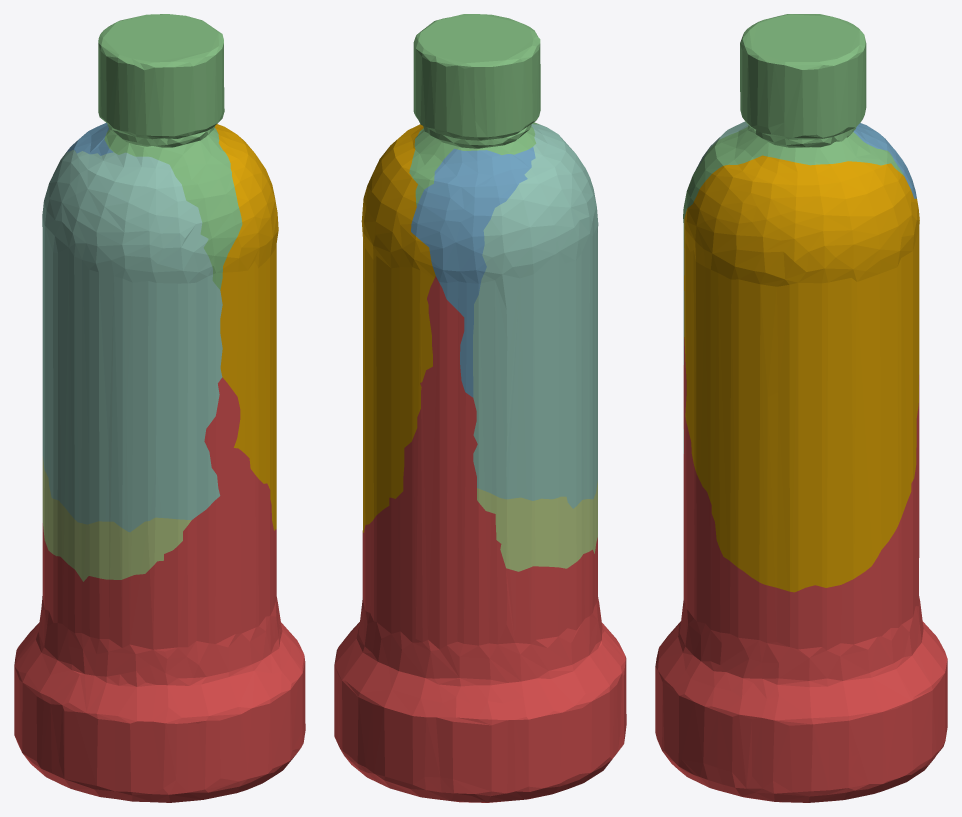
File: mode_7_6pcs.glb
The picture shows the model from 3 angles, left to right: view 1: azimuth 30°, elevation 25°; view 2: azimuth 150°, elevation 25°; view 3: azimuth 270°, elevation 25°; orthographic projection.
Visible parts, largest first — view 1: piece_1.obj, piece_4.obj, piece_3.obj, piece_0.obj, piece_5.obj, piece_2.obj; view 2: piece_1.obj, piece_4.obj, piece_0.obj, piece_3.obj, piece_2.obj, piece_5.obj; view 3: piece_0.obj, piece_1.obj, piece_3.obj, piece_2.obj.
Boxes of the visible parts, <box> form: piece_1.obj: <box>14,377,305,802</box>; piece_4.obj: <box>42,150,222,532</box>; piece_3.obj: <box>98,14,242,289</box>; piece_0.obj: <box>214,124,278,530</box>; piece_5.obj: <box>42,456,191,581</box>; piece_2.obj: <box>66,123,113,155</box>; piece_1.obj: <box>334,276,626,802</box>; piece_4.obj: <box>473,124,598,508</box>; piece_0.obj: <box>361,124,435,532</box>; piece_3.obj: <box>409,14,540,206</box>; piece_2.obj: <box>411,147,535,397</box>; piece_5.obj: <box>477,481,597,571</box>; piece_0.obj: <box>684,155,919,592</box>; piece_1.obj: <box>655,337,947,802</box>; piece_3.obj: <box>683,14,904,246</box>; piece_2.obj: <box>853,123,916,198</box>.
Bounding box in the file's own units: 0.3732 × 1 × 0.3731.
